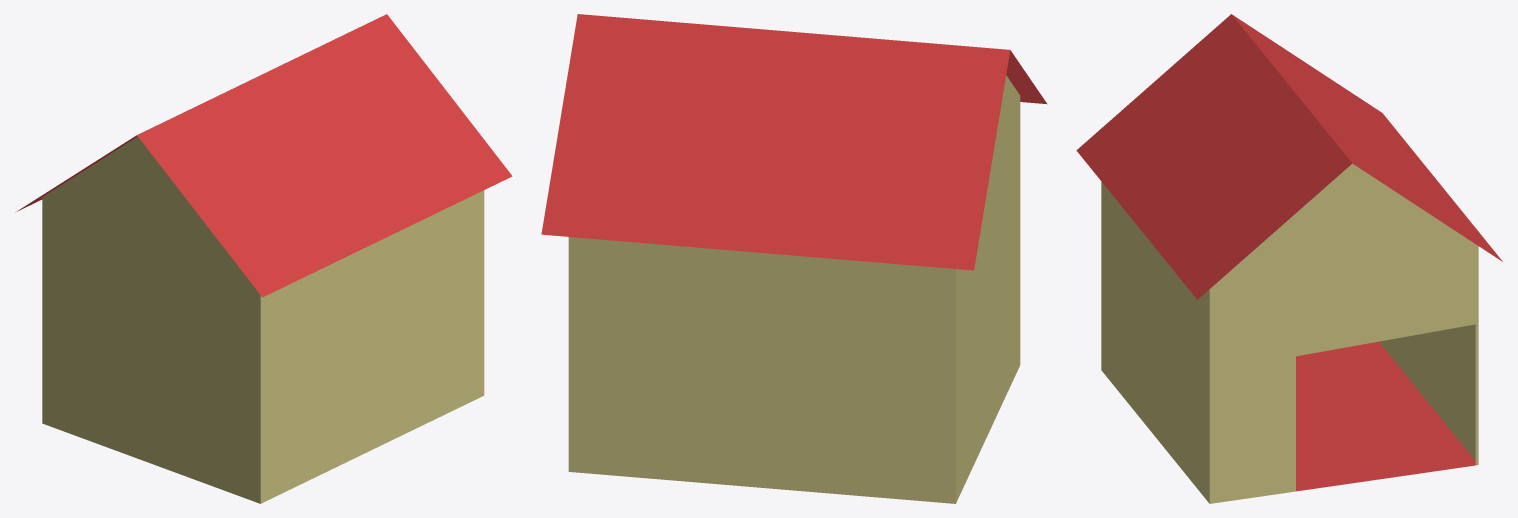
3 views of the same model, side by side, from view 1: azimuth 30°, elevation 25°; view 2: azimuth 150°, elevation 25°; view 3: azimuth 270°, elevation 25° (orthographic). The views are drawn at different scales.
Bounding box in the file's own units: 17.52 × 16.32 × 13.85.
